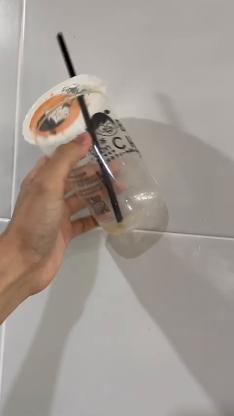Plastic Cup: (24, 76, 158, 235)
